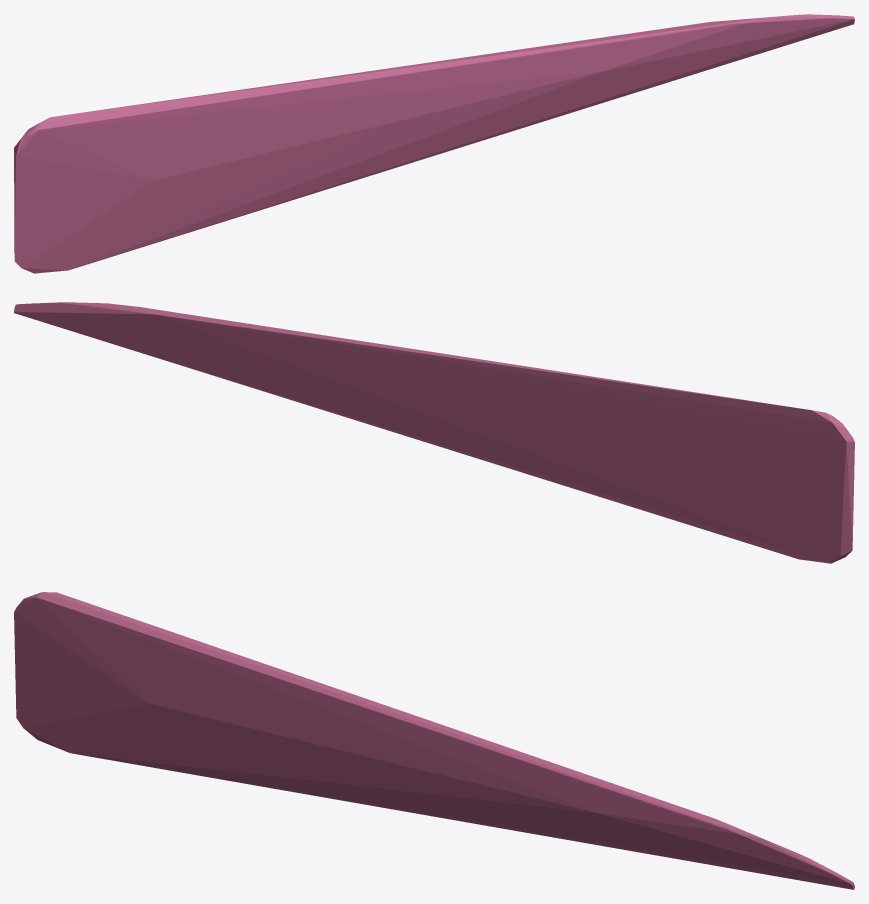
Rendered from instrument_bipolar_dissecting_scissors_a01.glb.
3 renders of one model, top to bottom at view 1: azimuth 30°, elevation 25°; view 2: azimuth 150°, elevation 25°; view 3: azimuth 330°, elevation 25°, orthographic.
Parts seen in each view (by area): view 1: geometry_0; view 2: geometry_0; view 3: geometry_0.
Boxes of the visible parts, x1=… form: geometry_0: x1=14, y1=14, x2=854, y2=273; geometry_0: x1=14, y1=302, x2=854, y2=563; geometry_0: x1=14, y1=592, x2=854, y2=889.
Bounding box in the file's own units: 0.4766 × 0.0841 × 0.00783.
